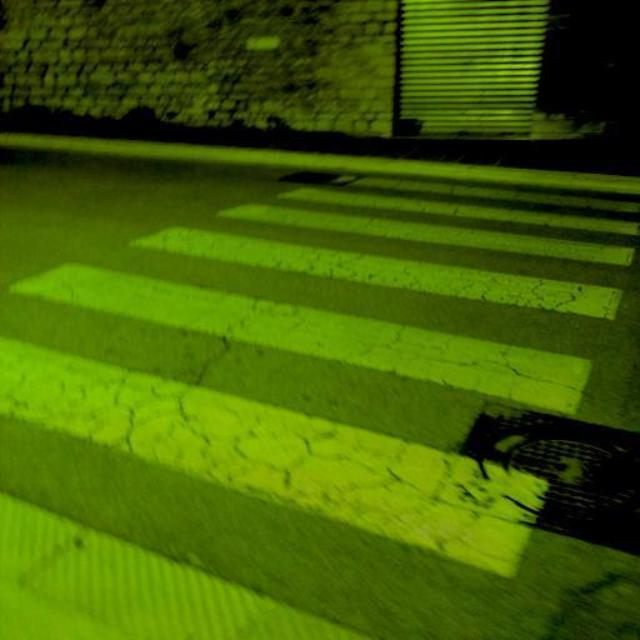sidewalk: (8, 169, 636, 636)
